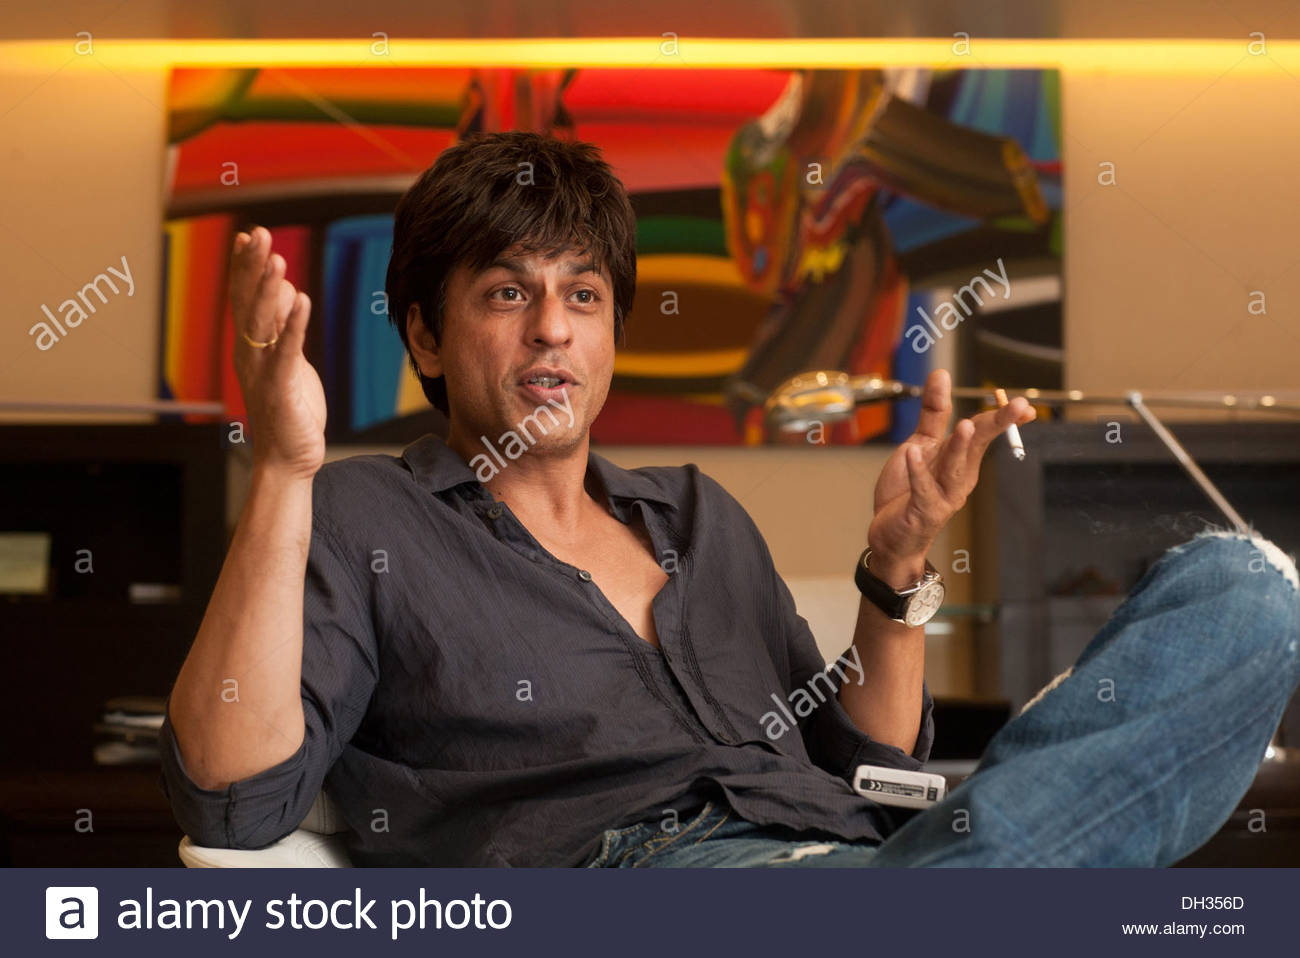cigarette: (991, 385, 1031, 471)
